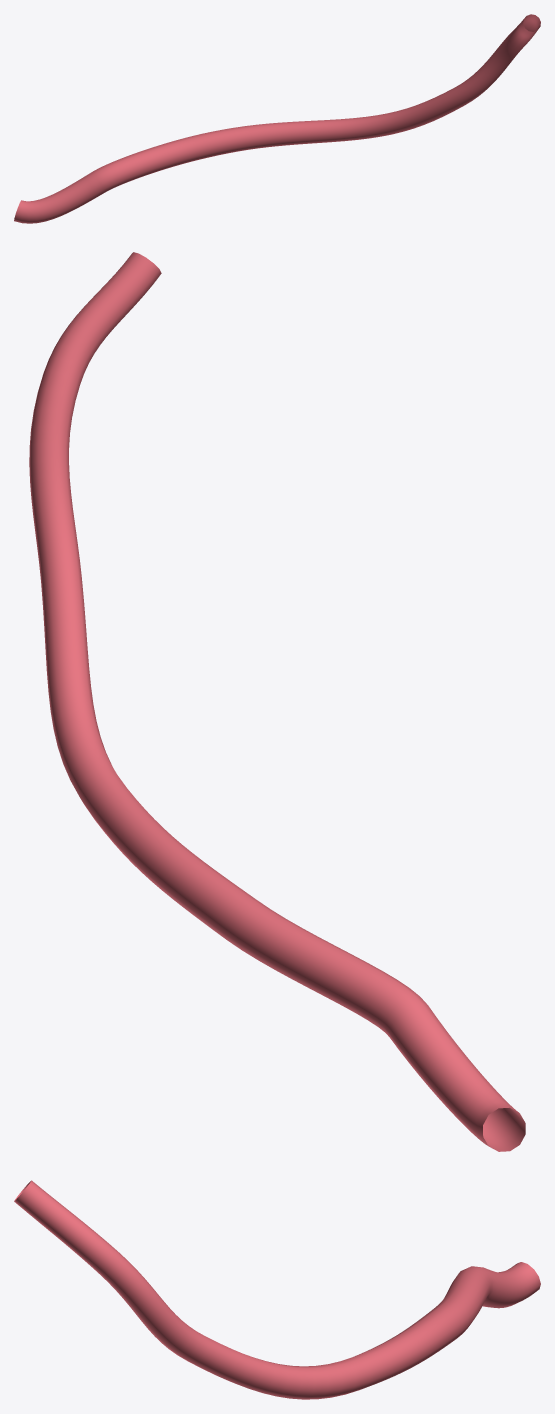
3 renders of one model, top to bottom at view 1: azimuth 30°, elevation 25°; view 2: azimuth 150°, elevation 25°; view 3: azimuth 270°, elevation 25°, orthographic. The views are drawn at different scales.
Visible parts, largest first — view 1: ZA_e6dc7f30c0576333; view 2: ZA_e6dc7f30c0576333; view 3: ZA_e6dc7f30c0576333.
Boxes of the visible parts, <box> form: ZA_e6dc7f30c0576333: <box>14,14,540,223</box>; ZA_e6dc7f30c0576333: <box>29,252,525,1151</box>; ZA_e6dc7f30c0576333: <box>14,1180,540,1399</box>.
Bounding box in the file's own units: 0.038 × 0.0236 × 0.0306.
